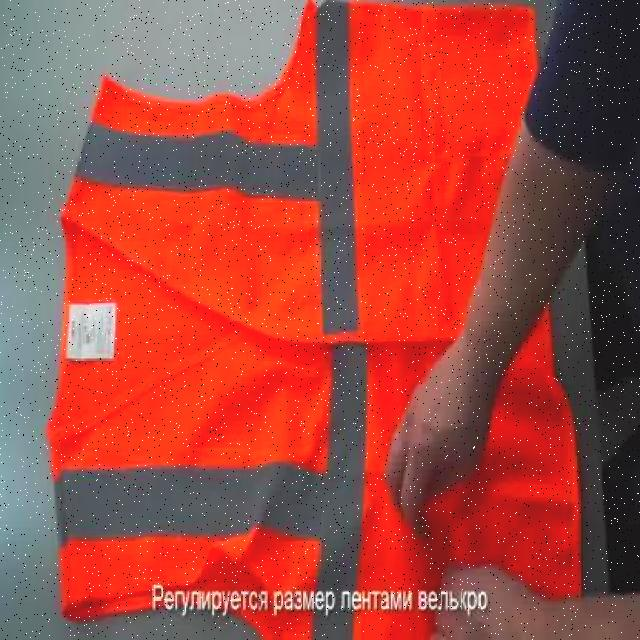Mask: (44, 0, 584, 638)
